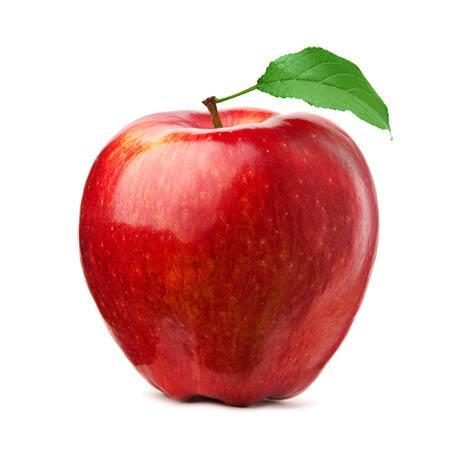apple: (75, 109, 380, 410)
